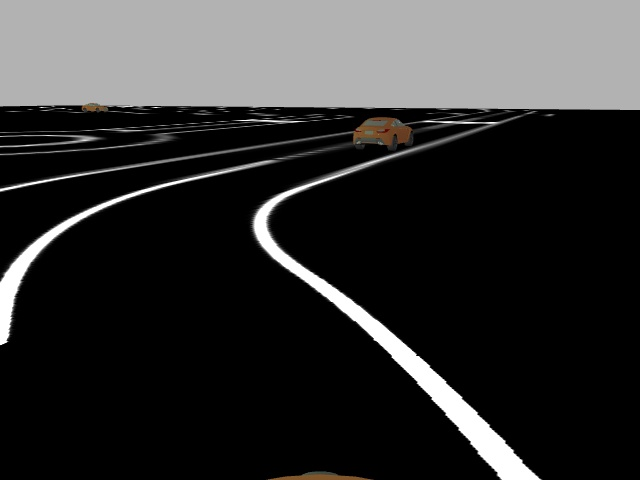obstacle_car: (349, 116, 418, 148)
